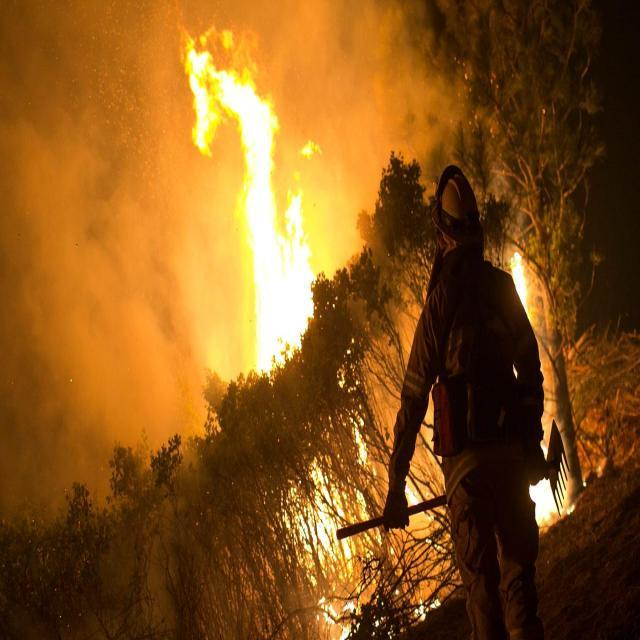Smoke: (0, 0, 481, 208), (0, 114, 244, 522)
